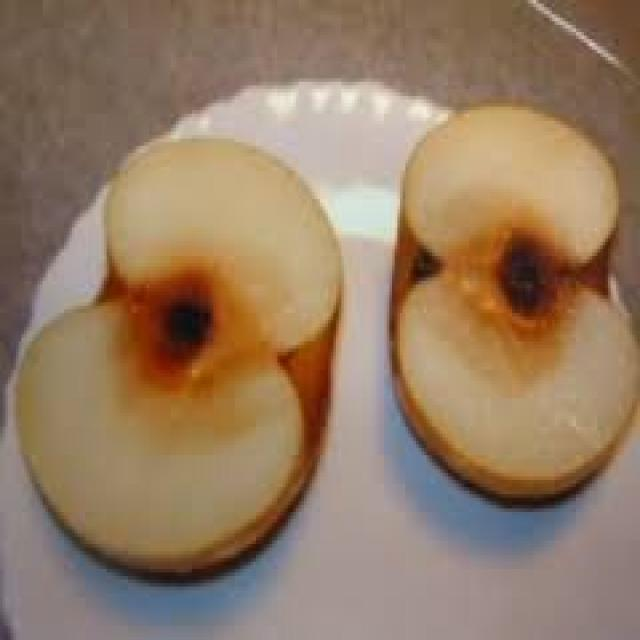organic waste: (11, 132, 338, 576), (387, 96, 637, 505)
